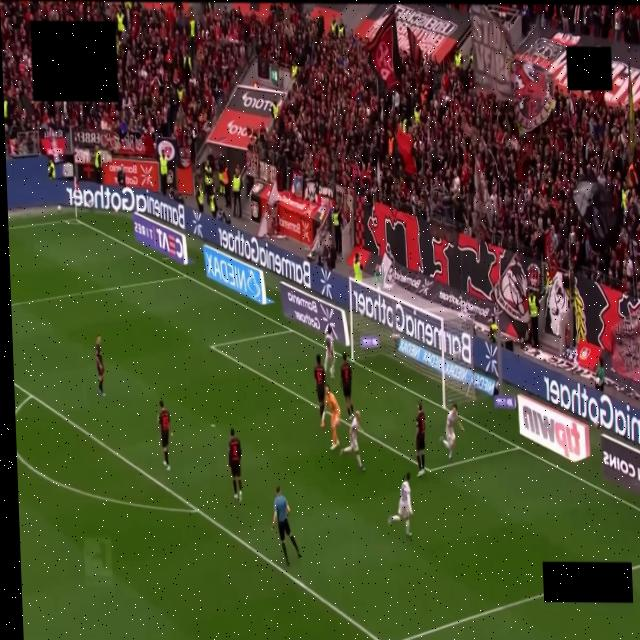player: (387, 473, 412, 537), (440, 403, 463, 460), (341, 412, 363, 471), (228, 429, 241, 501), (157, 401, 170, 470), (325, 386, 339, 449), (340, 353, 353, 419), (314, 354, 325, 426), (415, 403, 425, 476), (324, 324, 334, 379), (95, 335, 104, 396)
referee: (271, 487, 300, 566)
